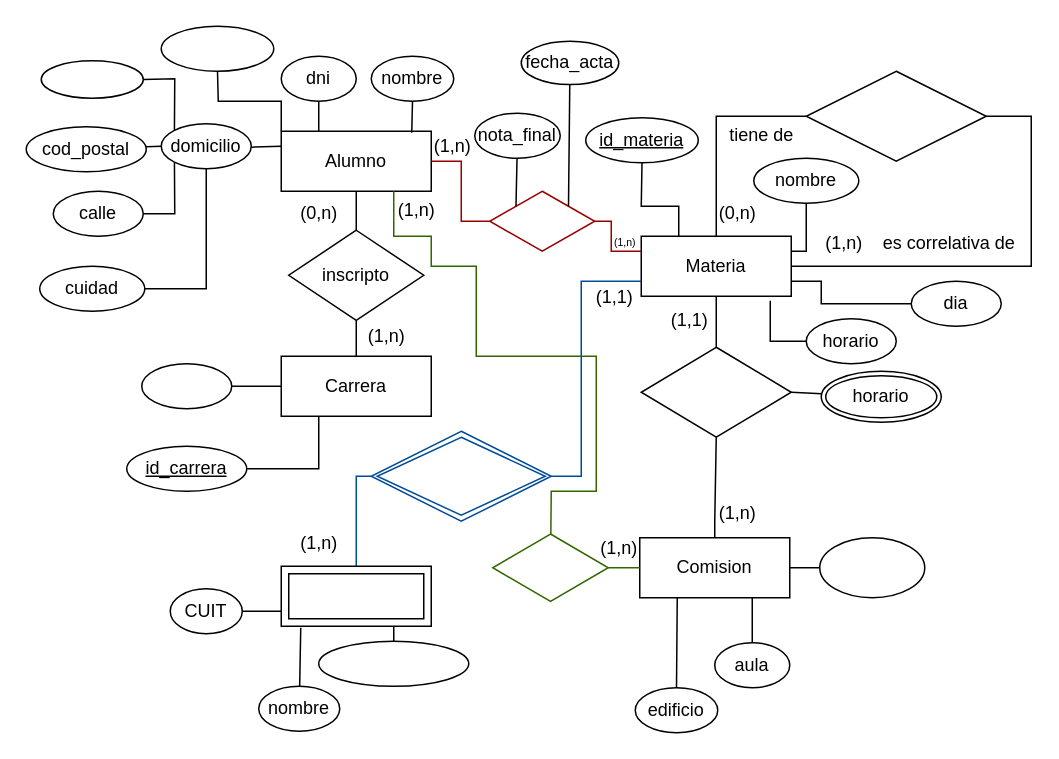
This 1059x759 diagram has some shape labels left out. Each missing label, with the centre of its shape:
"año" belongs at point (186, 385).
"correlativa" belongs at point (895, 115).
"cursa" belongs at point (549, 567).
"curso" belongs at point (541, 220).
"Docente" belongs at point (355, 595).
"id_comsion" belongs at point (871, 567).
"nro_legajo" belongs at point (217, 48).
"numero" belongs at point (91, 78).
"tiene" belongs at point (715, 391).
"titulo_academico" belongs at point (393, 663).
"trabaja" belongs at point (460, 475).
